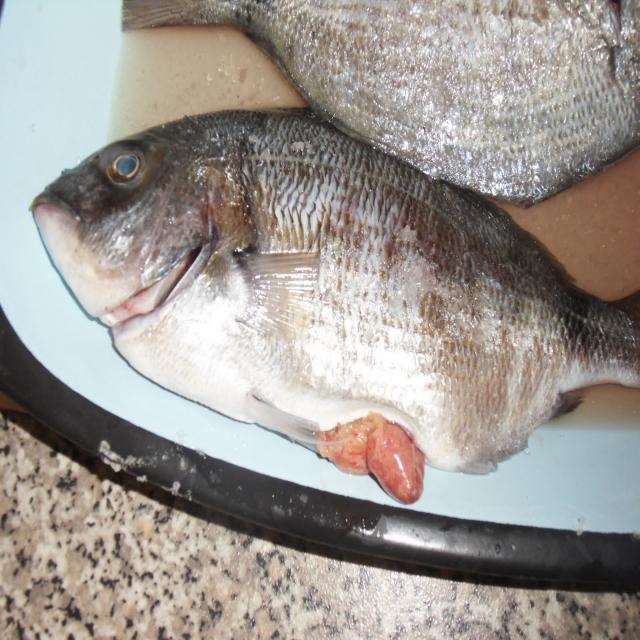EUS Disease: (26, 17, 640, 497), (300, 370, 444, 507)
